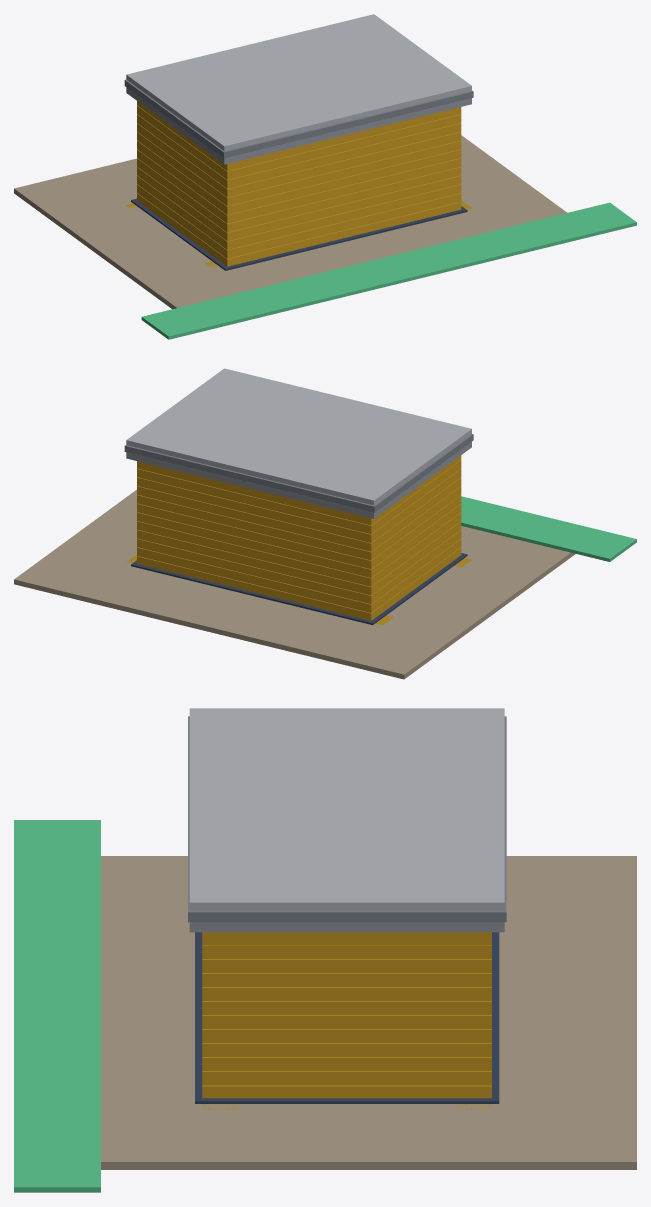
Rendered from stage_07_complete.glb.
3 views of the same model, one above another, from view 1: azimuth 30°, elevation 25°; view 2: azimuth 150°, elevation 25°; view 3: azimuth 270°, elevation 25° (orthographic). The views are drawn at different scales.
Parts seen in each view (by area): view 1: world; view 2: world; view 3: world.
Part boxes in pixels (left/top/right/bottom): world: left=14, top=14, right=636, bottom=339; world: left=14, top=368, right=636, bottom=679; world: left=14, top=708, right=636, bottom=1192.
Size of the model in its own units: 12 by 3.9 by 8.6.
